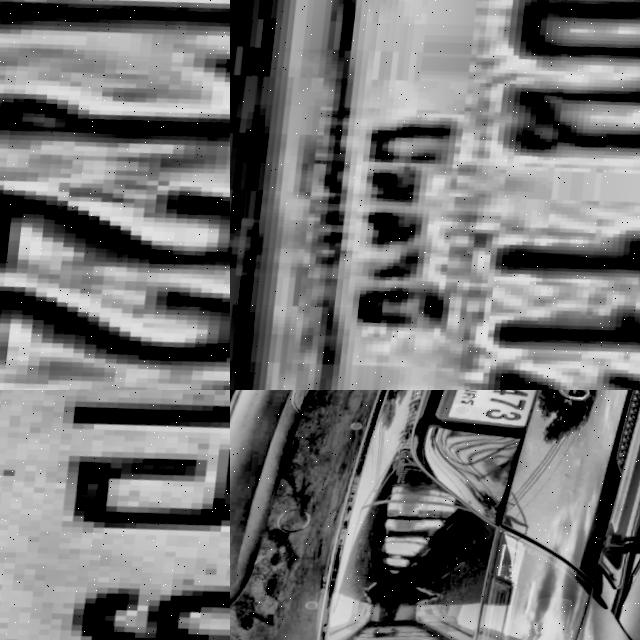license-plate: (244, 0, 640, 390), (0, 0, 230, 390), (0, 390, 230, 640), (428, 390, 564, 440)
